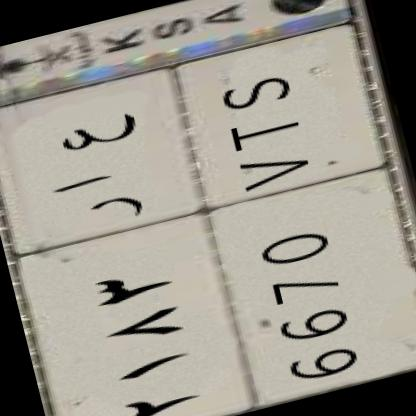english: (137, 3, 416, 414)
